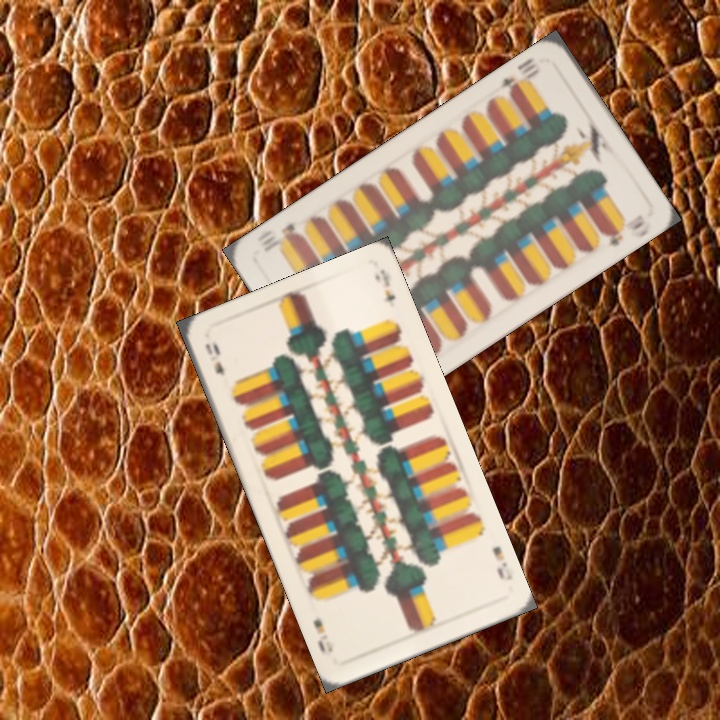E10: (496, 61, 542, 100)
E9: (488, 542, 515, 584), (201, 338, 227, 380)
